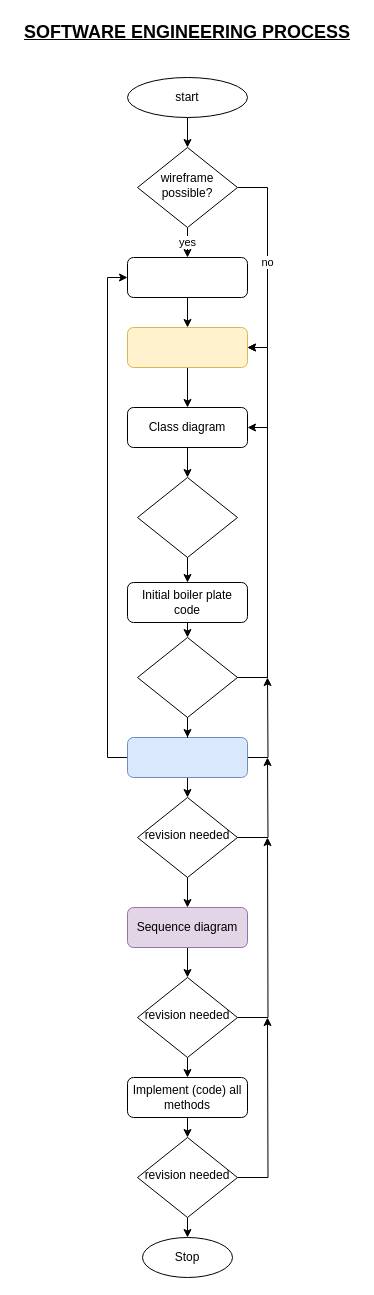
Image size: 374x1295. Some labels were removed from this diagram. Each missing label, with the centre of its shape:
"Activtivity Diagram" goes at point 187,757.
"Do the use case diagram" goes at point 187,347.
"Do Wire frame diagram" goes at point 187,277.
"Revise design" goes at point 187,677.
"Time for skeletal frame work?" goes at point 187,517.
